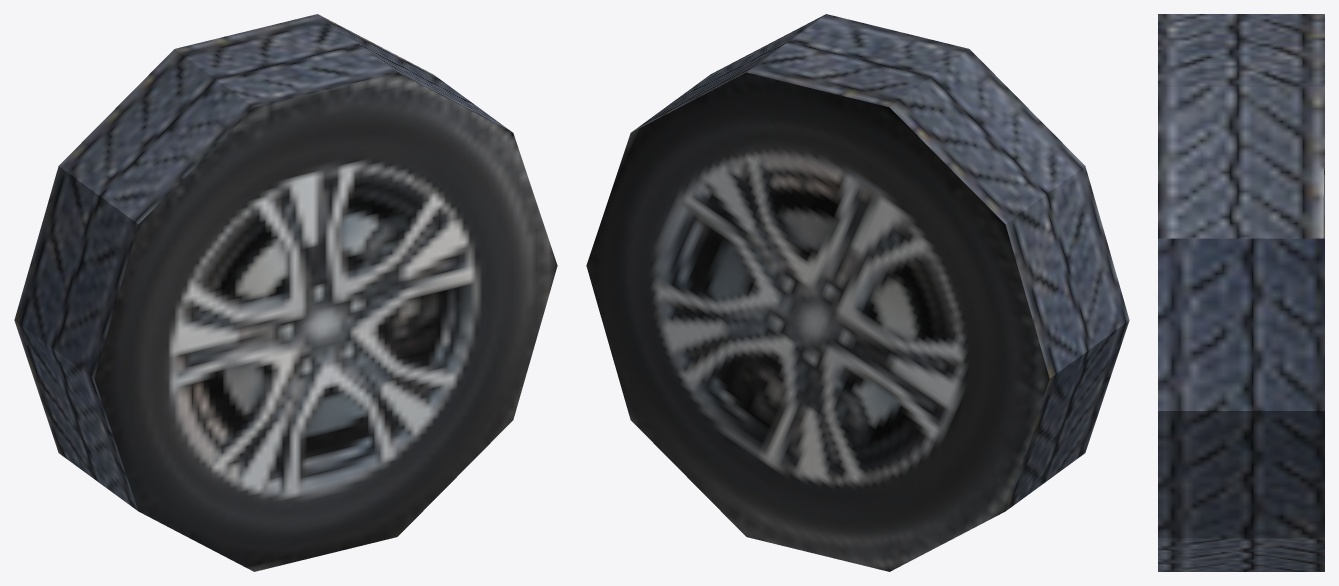
Rendered from Roue3.fbx.
3 views of the same model, side by side, from view 1: azimuth 30°, elevation 25°; view 2: azimuth 150°, elevation 25°; view 3: azimuth 270°, elevation 25° (orthographic). The views are drawn at different scales.
Visible parts, largest first — view 1: polySurface4; view 2: polySurface4; view 3: polySurface4.
Boxes of the visible parts, x1=… form: polySurface4: x1=14, y1=14, x2=557, y2=571; polySurface4: x1=586, y1=14, x2=1129, y2=571; polySurface4: x1=1158, y1=14, x2=1324, y2=571.
Bounding box in the file's own units: 0.3628 × 0.3475 × 0.1083.
